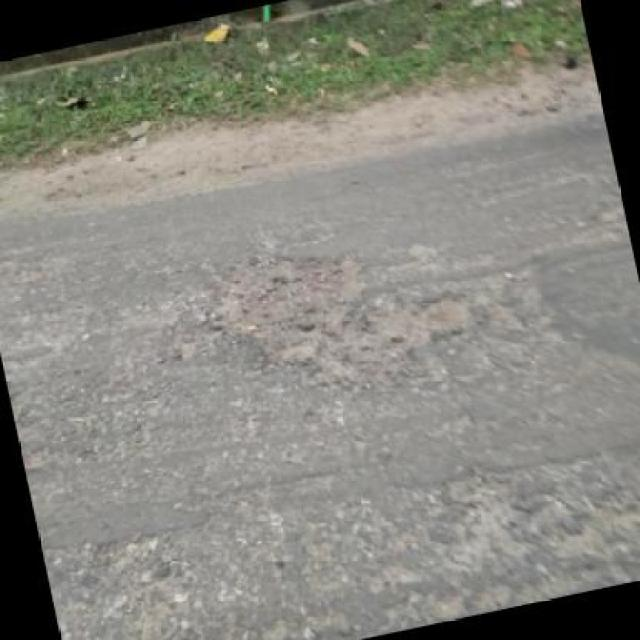pothole: (191, 202, 483, 412)
